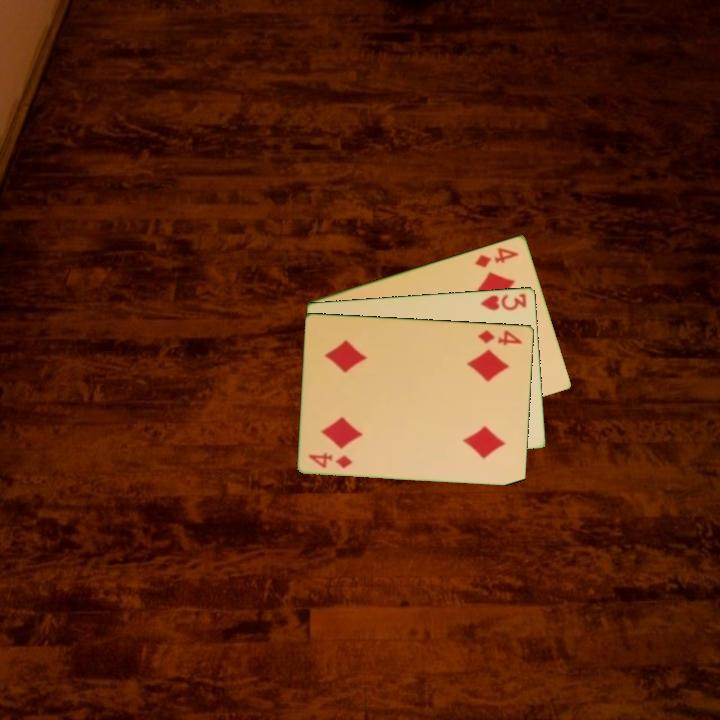3h: (477, 290, 530, 313)
4d: (472, 244, 522, 270), (475, 326, 525, 348), (305, 449, 355, 471)
